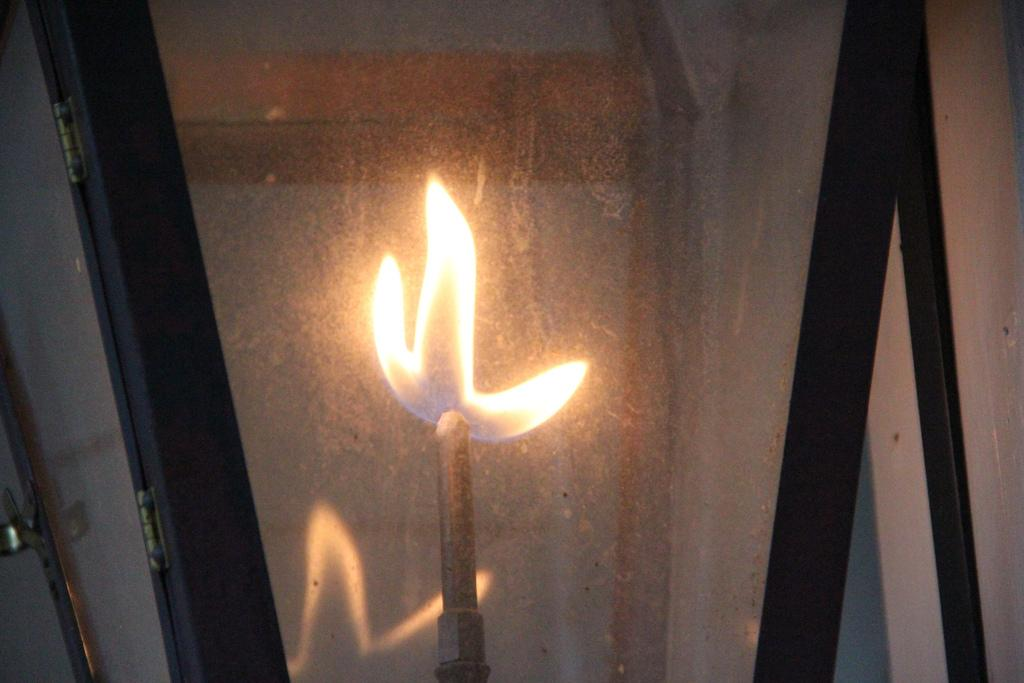fire: (415, 203, 488, 397)
